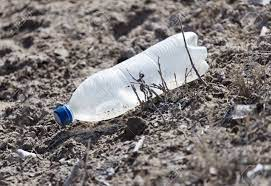plastic_bottle: (52, 30, 210, 128)
